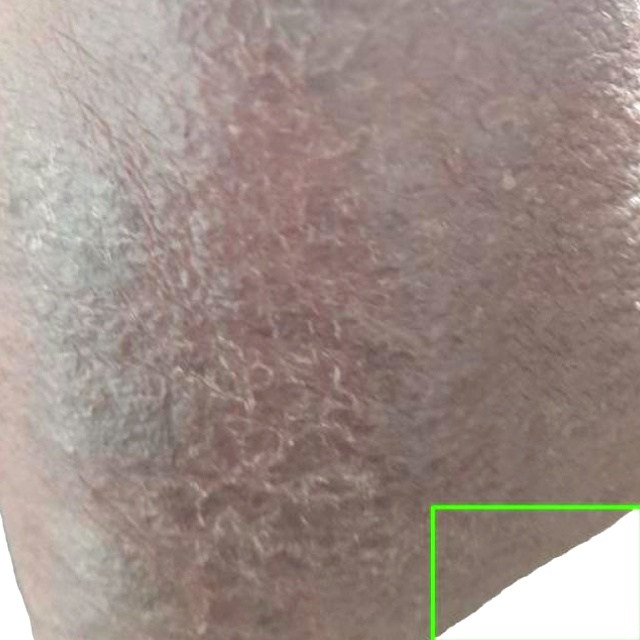Contact Dermatitis: (432, 507, 639, 639)
